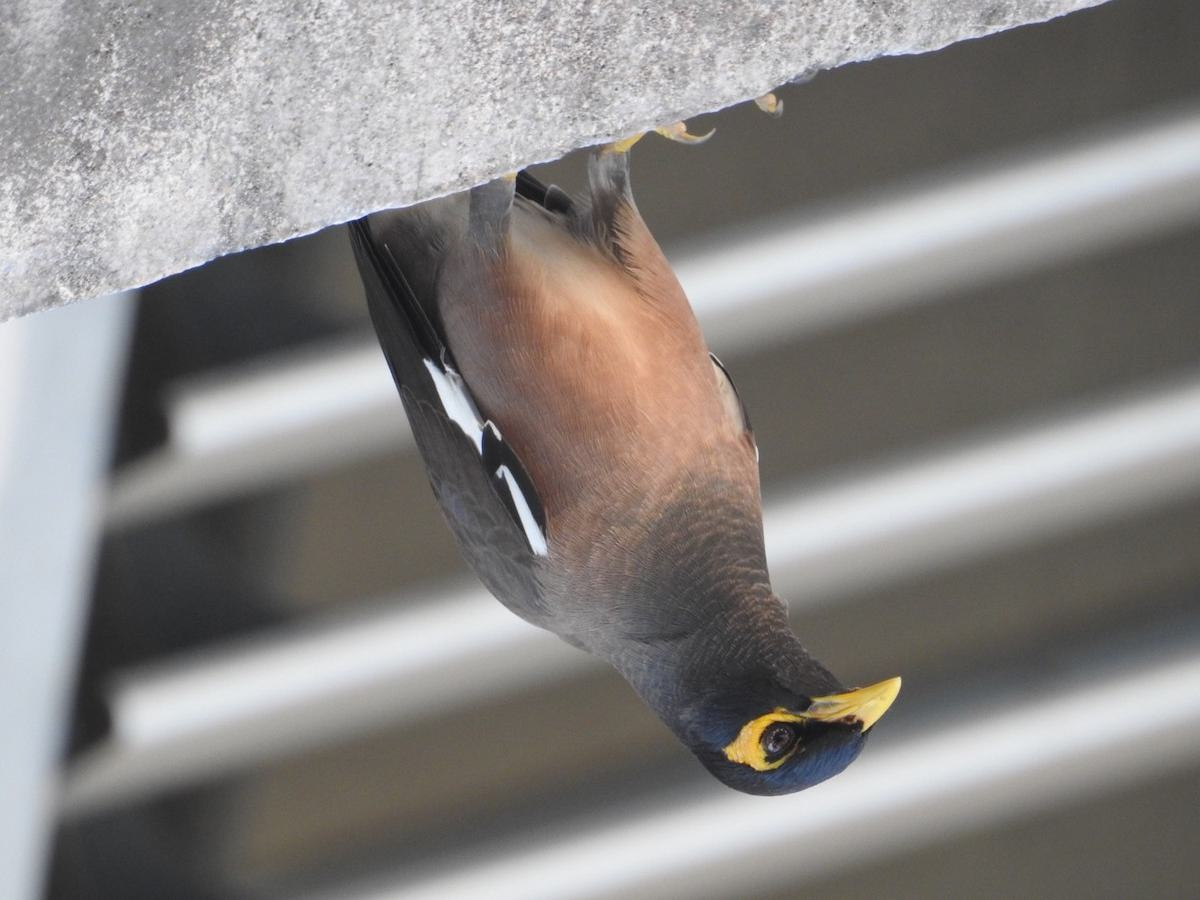myna: (219, 75, 985, 817)
